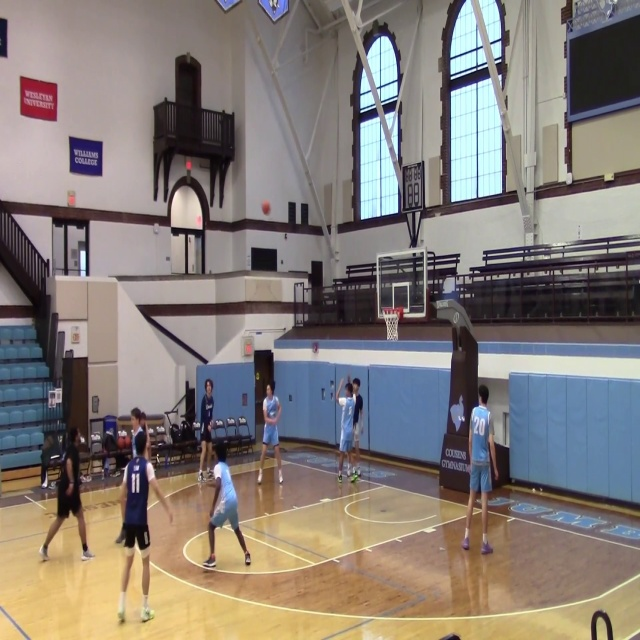Basketball: (116, 430, 130, 449), (117, 436, 129, 448), (261, 200, 270, 215), (338, 397, 346, 406), (185, 160, 192, 170)
